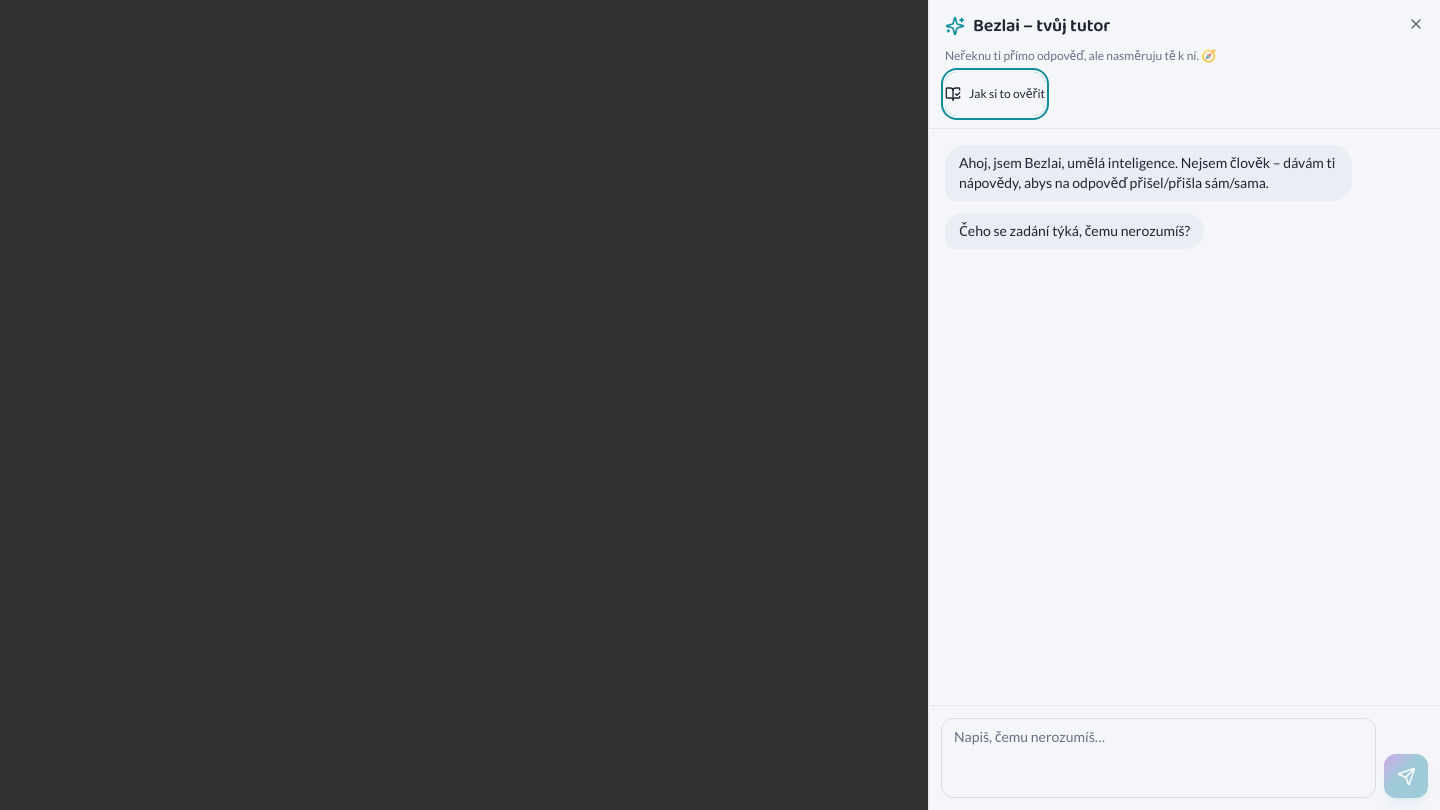
Test: Bezlai – materiál a režimy › kontextový režim nenabídne materiál ani shrnutí a zachová původní požadavek
Type "Nevím, kde začít" into the text box labelled "čemu nerozumíš" at (1158, 758), box [941,718,1376,798]
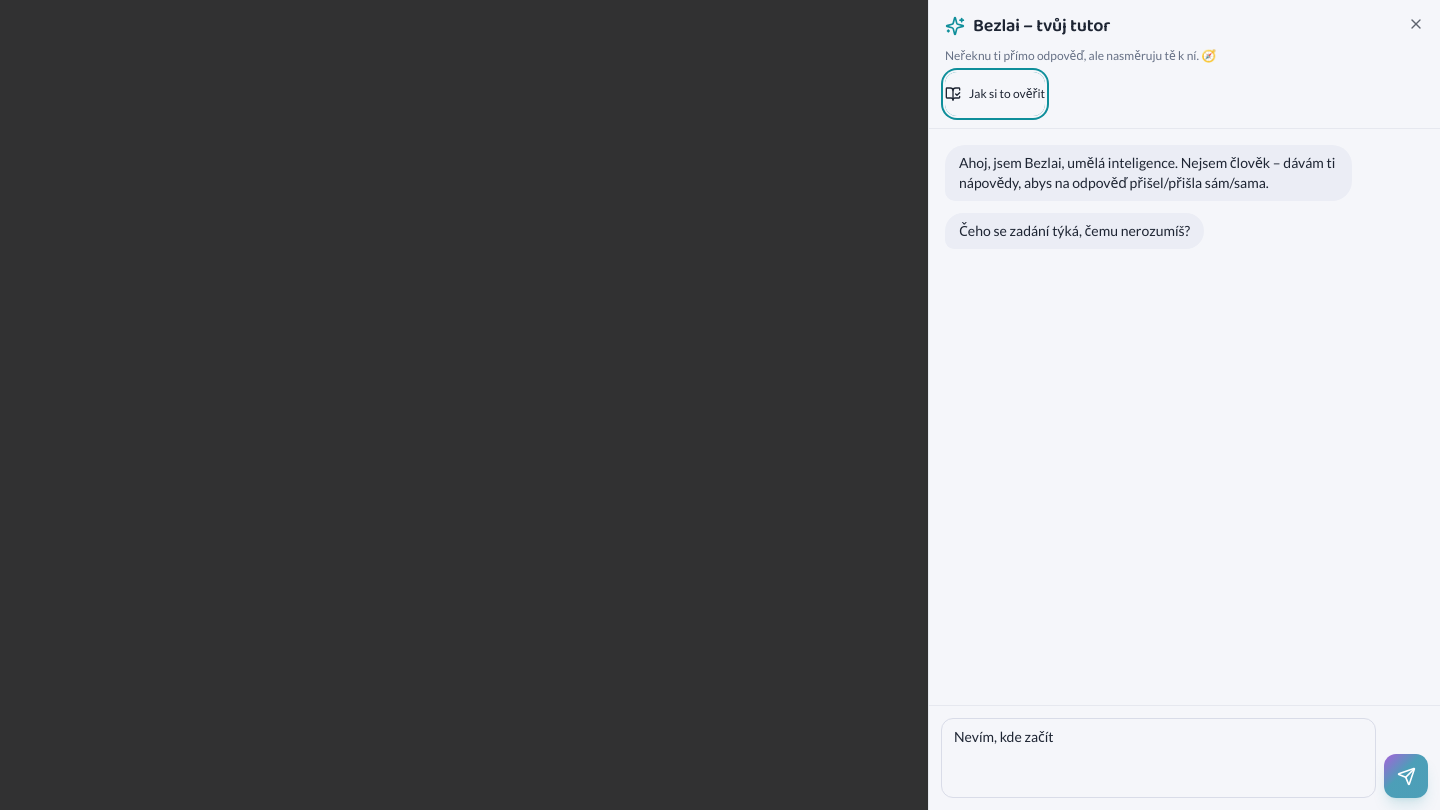
Click the button named "Odeslat" at (1406, 776), box [1384,754,1428,798]
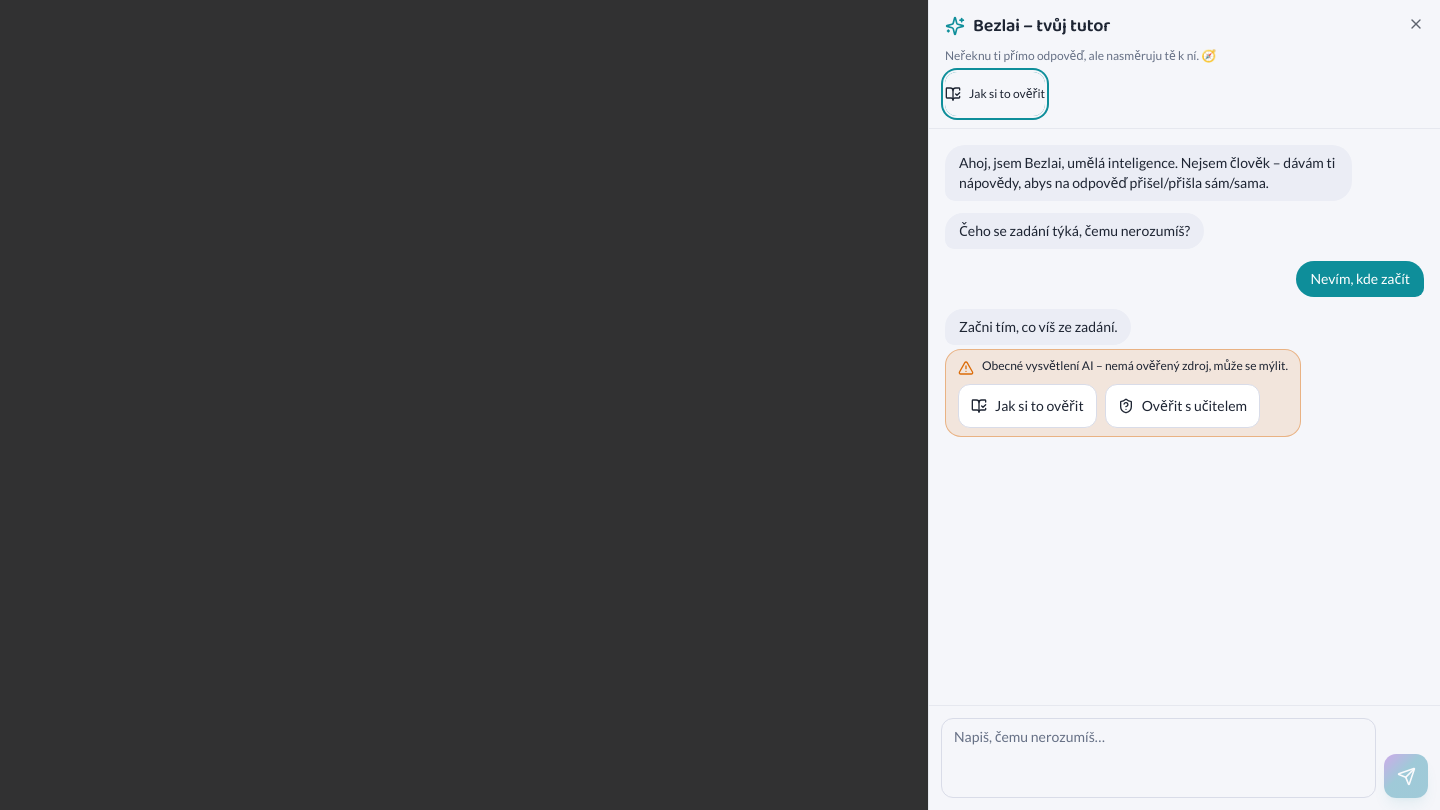
expect the text "Začni tím, co víš ze zadání." is shown: met, box [945,309,1132,345]
